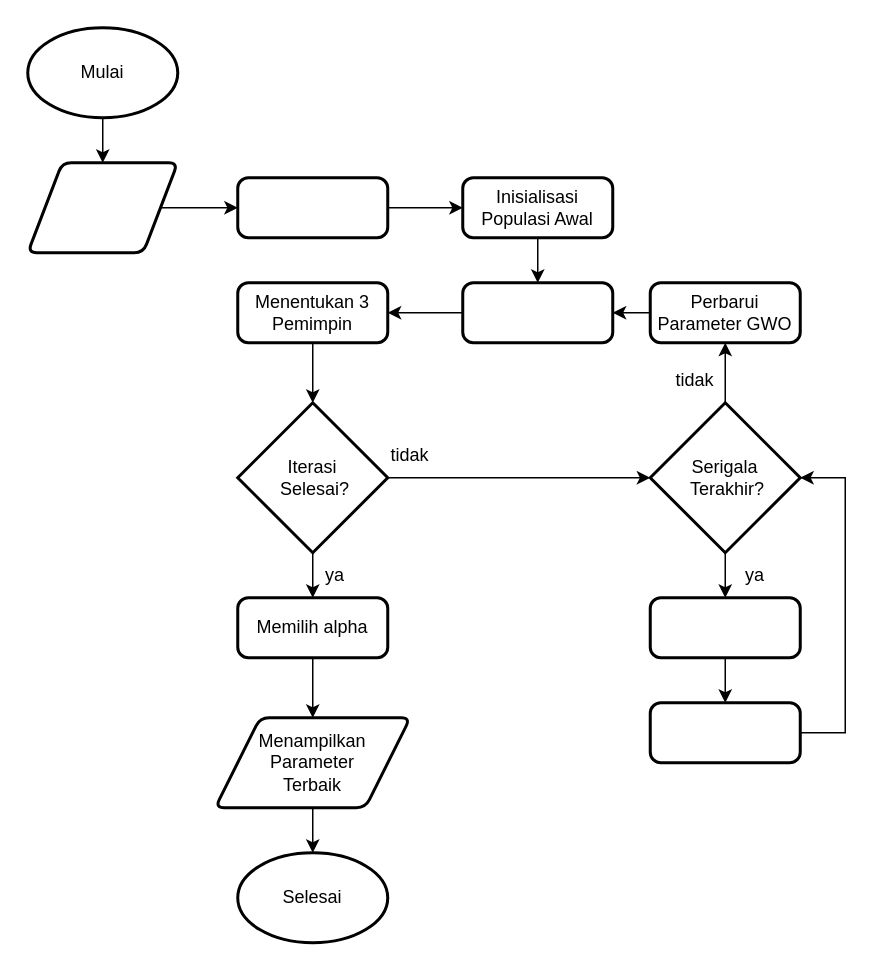
This 884x969 diagram has some shape labels left out. The shapes that lost their labels are listed below. From the top down, each one's box as (x1, y1, x2, y2) in pixels, then its label:
(26, 160, 178, 254): Membaca dataset
(236, 176, 388, 238): Inisialisasi Parameter
(460, 280, 614, 344): Evaluasi Model Klasifikasi
(648, 596, 801, 658): Perbarui Posisi Serigala ke-n
(648, 700, 801, 764): Serigala ke n+1
